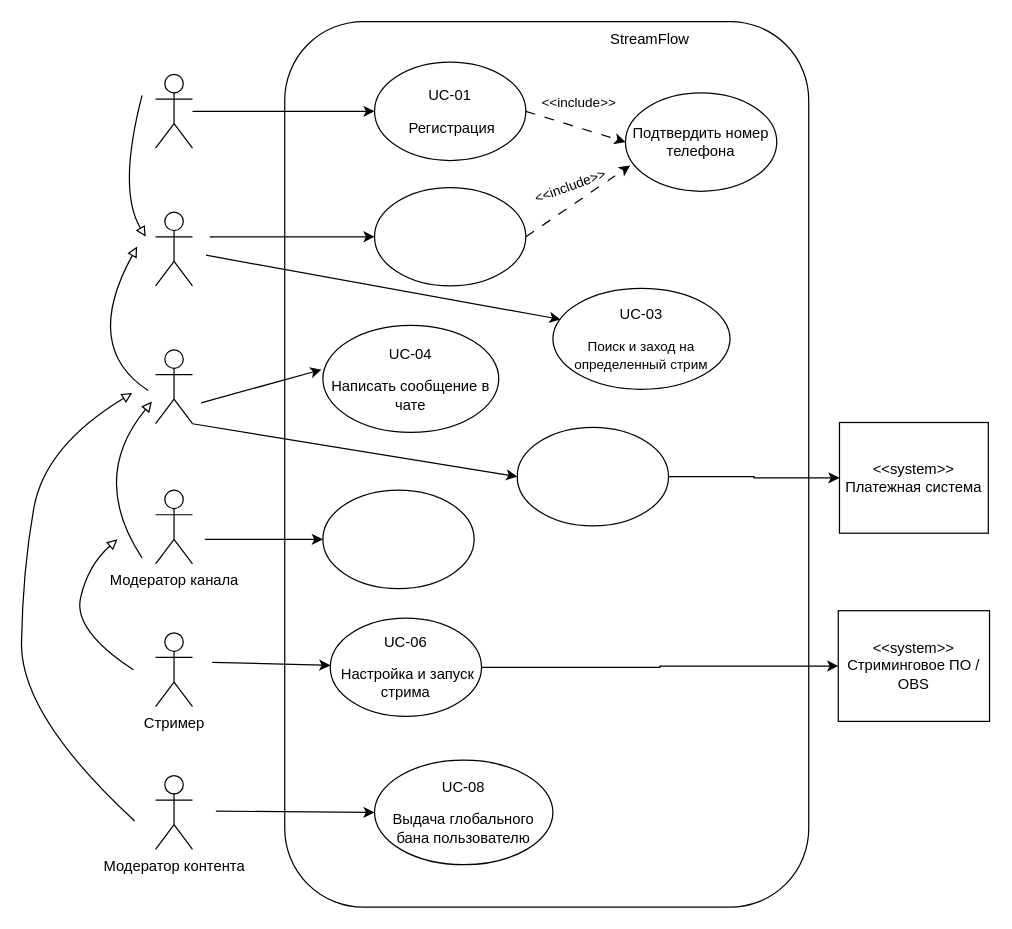
Some shapes in this 1012 by 929 pixel diagram are drawn without their labels. Each missing label, with the centre of its shape:
"UC-02 Вход в систему" belongs at (x=449, y=236).
"UC-05 Оформление подписки" belongs at (x=592, y=476).
"UC-07 Выдача мута" belongs at (x=398, y=539).
"Гость" belongs at (x=173, y=110).
"Зритель" belongs at (x=173, y=386).
"Пользователь" belongs at (x=173, y=248).
